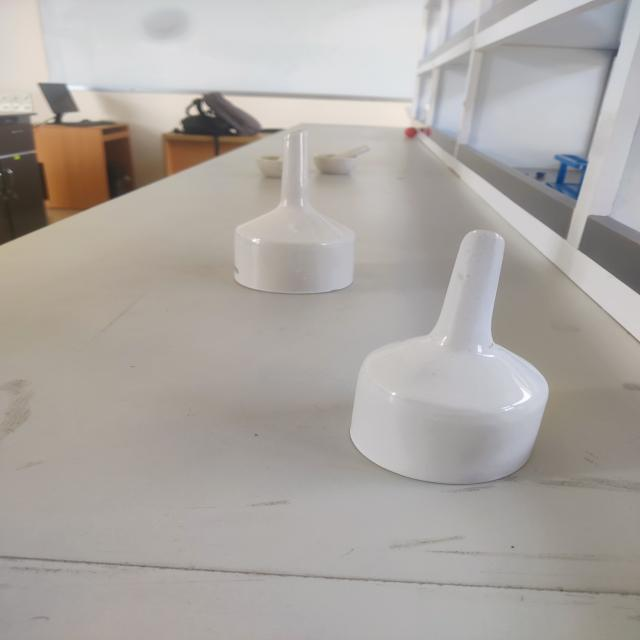Buchner_Funnel: (332, 202, 590, 506), (209, 100, 381, 304)
